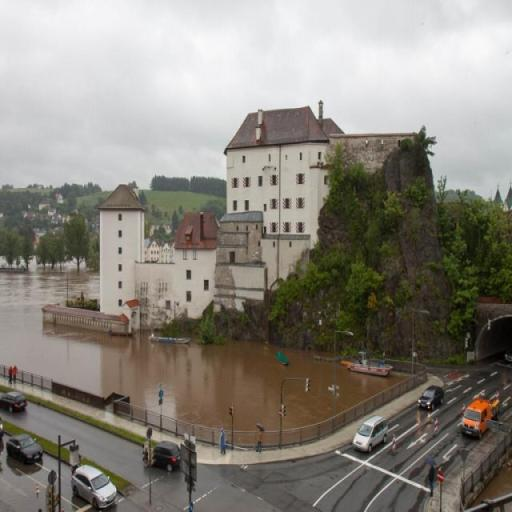flood: (0, 270, 333, 431), (338, 366, 403, 412), (475, 459, 512, 506)
house: (225, 106, 331, 234), (98, 182, 139, 313), (220, 209, 264, 262), (175, 209, 219, 251)
